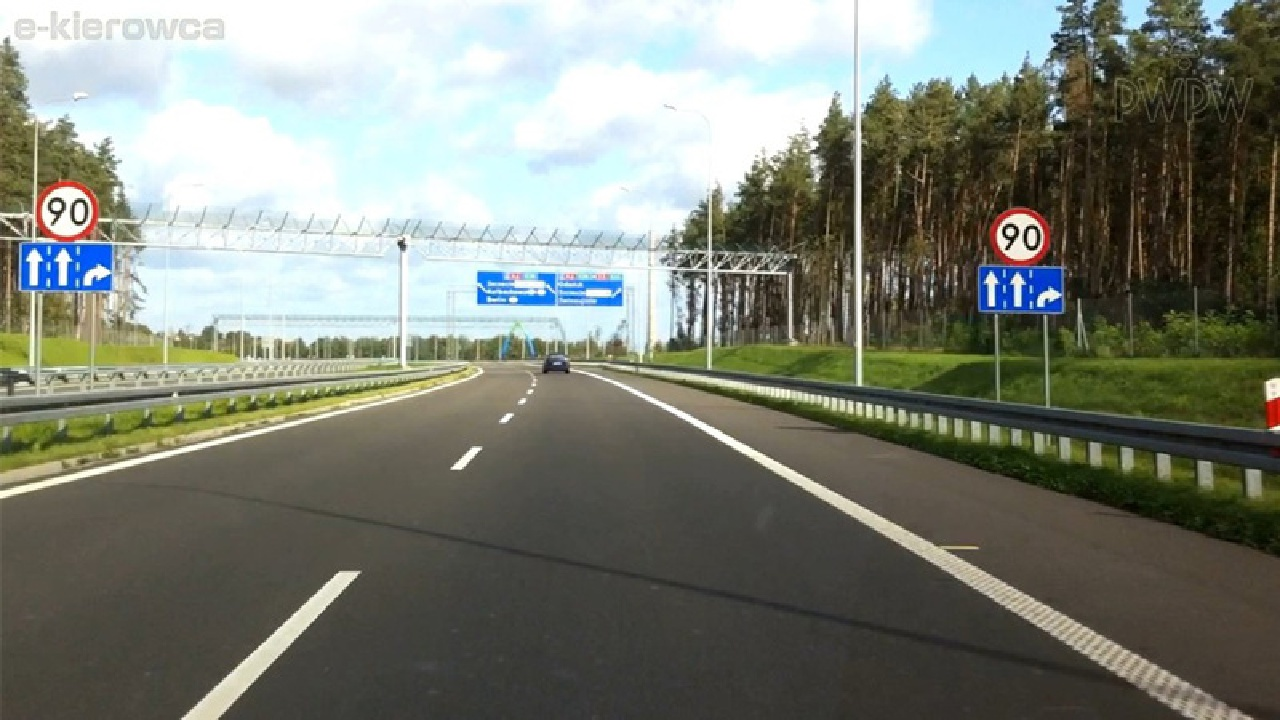B33_90: (35, 180, 99, 243), (989, 208, 1052, 267)
